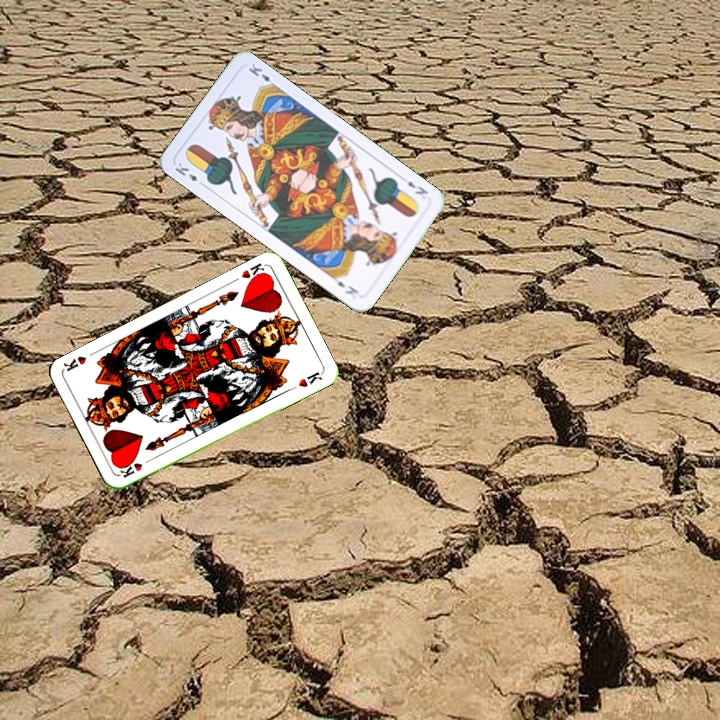EK: (171, 158, 208, 189), (403, 177, 431, 197)
HK: (116, 454, 155, 480), (237, 259, 270, 286)
